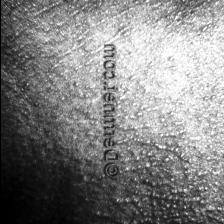Unclassified: (156, 141, 180, 162), (158, 204, 170, 222), (176, 0, 198, 8)
